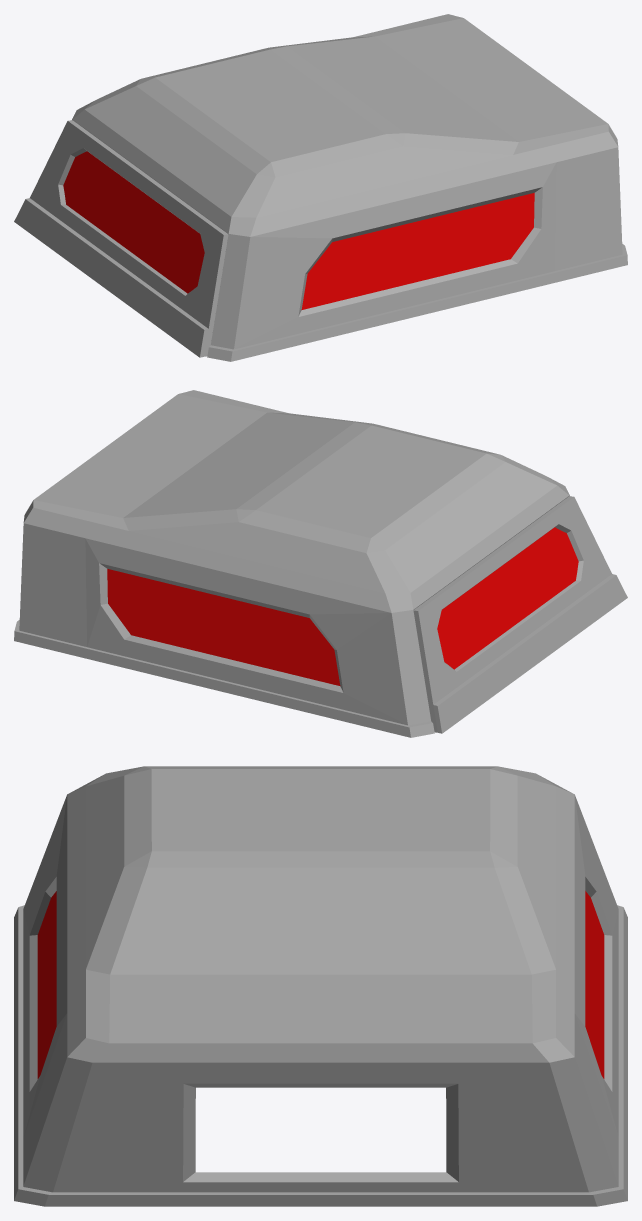
File: SK_Veh_Pickup_01_Canopy.fbx
3 views of the same model, one above another, from view 1: azimuth 30°, elevation 25°; view 2: azimuth 150°, elevation 25°; view 3: azimuth 270°, elevation 25° (orthographic). The views are drawn at different scales.
Visible parts, largest first — view 1: SK_Veh_Pickup_01_Canopy, SK_Veh_Pickup_01_Canopy_Door, SK_Veh_Pickup_01_Canopy_Glass, SK_Veh_Pickup_01_Canopy_Door_Glass; view 2: SK_Veh_Pickup_01_Canopy, SK_Veh_Pickup_01_Canopy_Door, SK_Veh_Pickup_01_Canopy_Glass, SK_Veh_Pickup_01_Canopy_Door_Glass; view 3: SK_Veh_Pickup_01_Canopy, SK_Veh_Pickup_01_Canopy_Glass.
Boxes of the visible parts, box(x1,y1,x2,y2) form: SK_Veh_Pickup_01_Canopy: box(72, 14, 627, 361); SK_Veh_Pickup_01_Canopy_Door: box(14, 120, 228, 357); SK_Veh_Pickup_01_Canopy_Glass: box(301, 193, 534, 309); SK_Veh_Pickup_01_Canopy_Door_Glass: box(63, 151, 204, 293); SK_Veh_Pickup_01_Canopy: box(14, 390, 569, 737); SK_Veh_Pickup_01_Canopy_Door: box(413, 496, 627, 733); SK_Veh_Pickup_01_Canopy_Glass: box(107, 569, 340, 685); SK_Veh_Pickup_01_Canopy_Door_Glass: box(437, 527, 578, 669); SK_Veh_Pickup_01_Canopy: box(14, 766, 627, 1206); SK_Veh_Pickup_01_Canopy_Glass: box(37, 891, 604, 1078).
Size of the model in its own units: 231 by 74.14 by 194.
